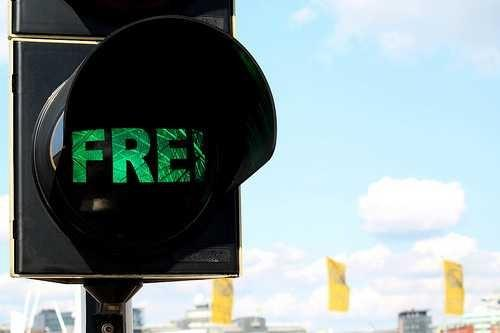green: (27, 35, 259, 279)
